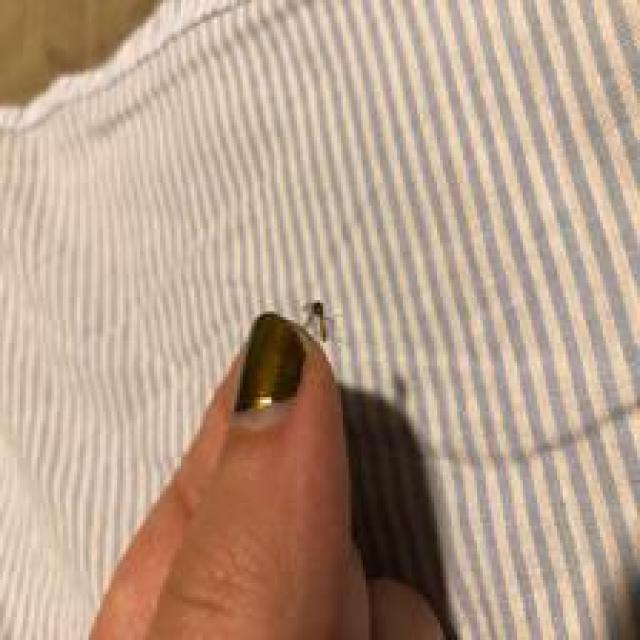Culex: (233, 298, 336, 413)
